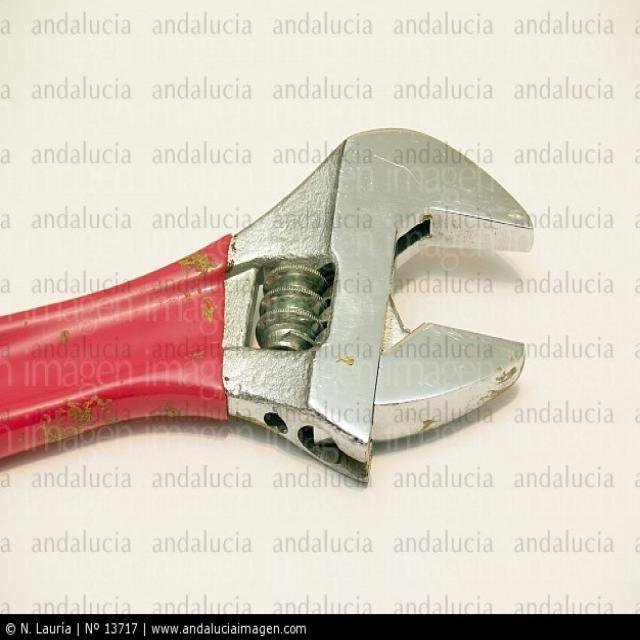wrench: (0, 112, 546, 482)
